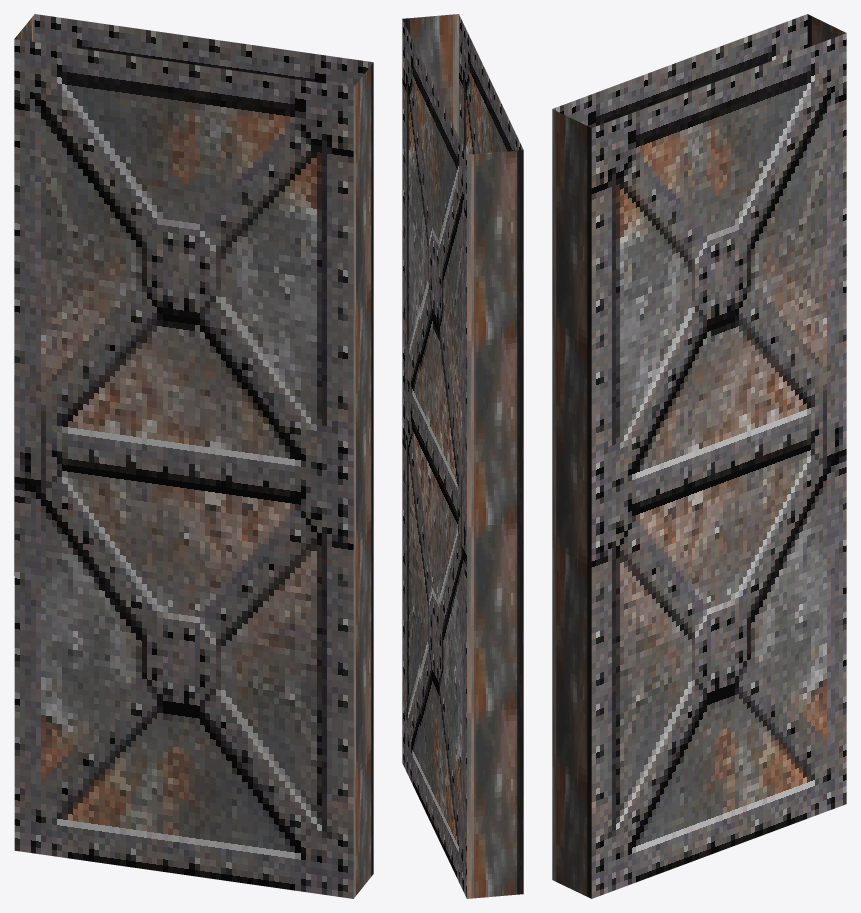
Rendered from primary_197.glb.
The picture shows the model from 3 angles, left to right: view 1: azimuth 30°, elevation 25°; view 2: azimuth 150°, elevation 25°; view 3: azimuth 270°, elevation 25°; orthographic projection. The views are drawn at different scales.
Parts seen in each view (by area): view 1: Object; view 2: Object; view 3: Object.
Boxes of the visible parts, x1,y1,x2,y2 form: Object: (14,14,373,898); Object: (402,14,523,898); Object: (552,14,846,898).
Bounding box in the file's own units: 0.9274 × 2.92 × 1.01.
Materials: 9 (9 with a texture image).
